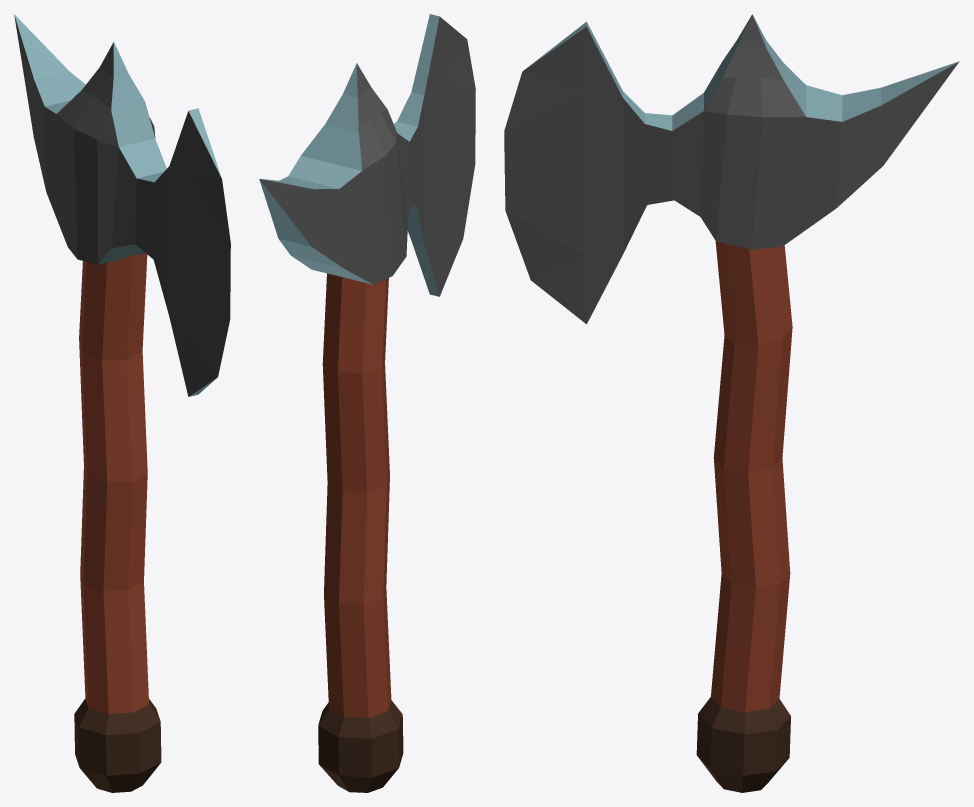
The model's file is Axe.fbx.
3 views of the same model, side by side, from view 1: azimuth 30°, elevation 25°; view 2: azimuth 150°, elevation 25°; view 3: azimuth 270°, elevation 25° (orthographic). The views are drawn at different scales.
Visible parts, largest first — view 1: Cylinder.003; view 2: Cylinder.003; view 3: Cylinder.003.
Boxes of the visible parts, box(x1,y1,x2,y2) form: Cylinder.003: box(14, 14, 230, 792); Cylinder.003: box(259, 14, 475, 792); Cylinder.003: box(504, 14, 959, 792).
Bounding box in the file's own units: 29.06 × 265 × 142.
